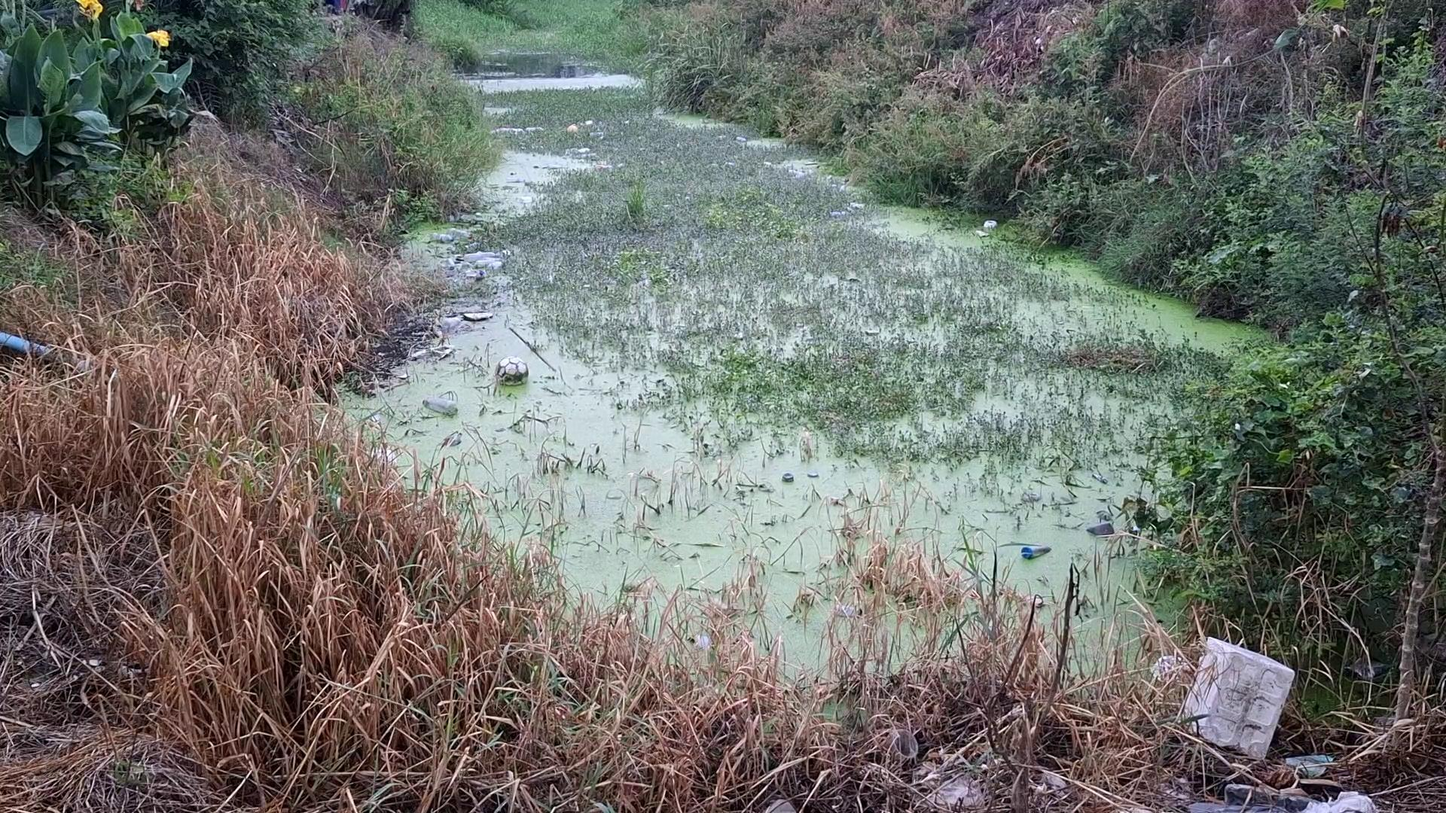ignore: (707, 259, 1122, 452), (535, 178, 836, 348), (483, 80, 750, 212)
trash: (428, 226, 517, 286), (815, 598, 881, 626), (439, 306, 504, 331), (416, 391, 463, 422), (487, 358, 537, 387), (1014, 537, 1061, 567), (770, 464, 822, 486), (1084, 515, 1124, 542), (966, 219, 1005, 243), (824, 201, 869, 219), (428, 428, 466, 449)
